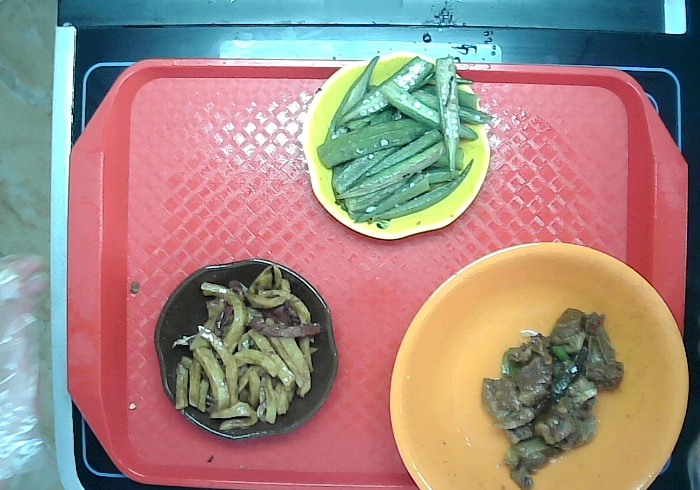YKMZ-Huang_Se_Ao_Bian_Wan: (292, 49, 493, 246)
YKMZ-Ju_Se_Tang_Wan: (382, 238, 690, 490)
YKMZ-Ka_Fei_Ao_Bian_Wan: (148, 254, 345, 446)
